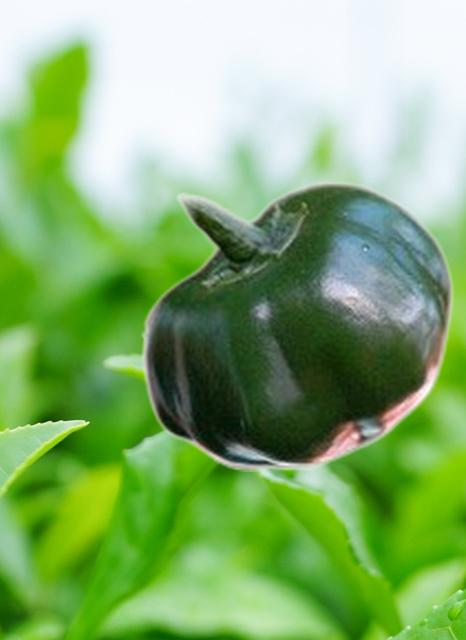bell_pepper: (139, 180, 453, 470)
